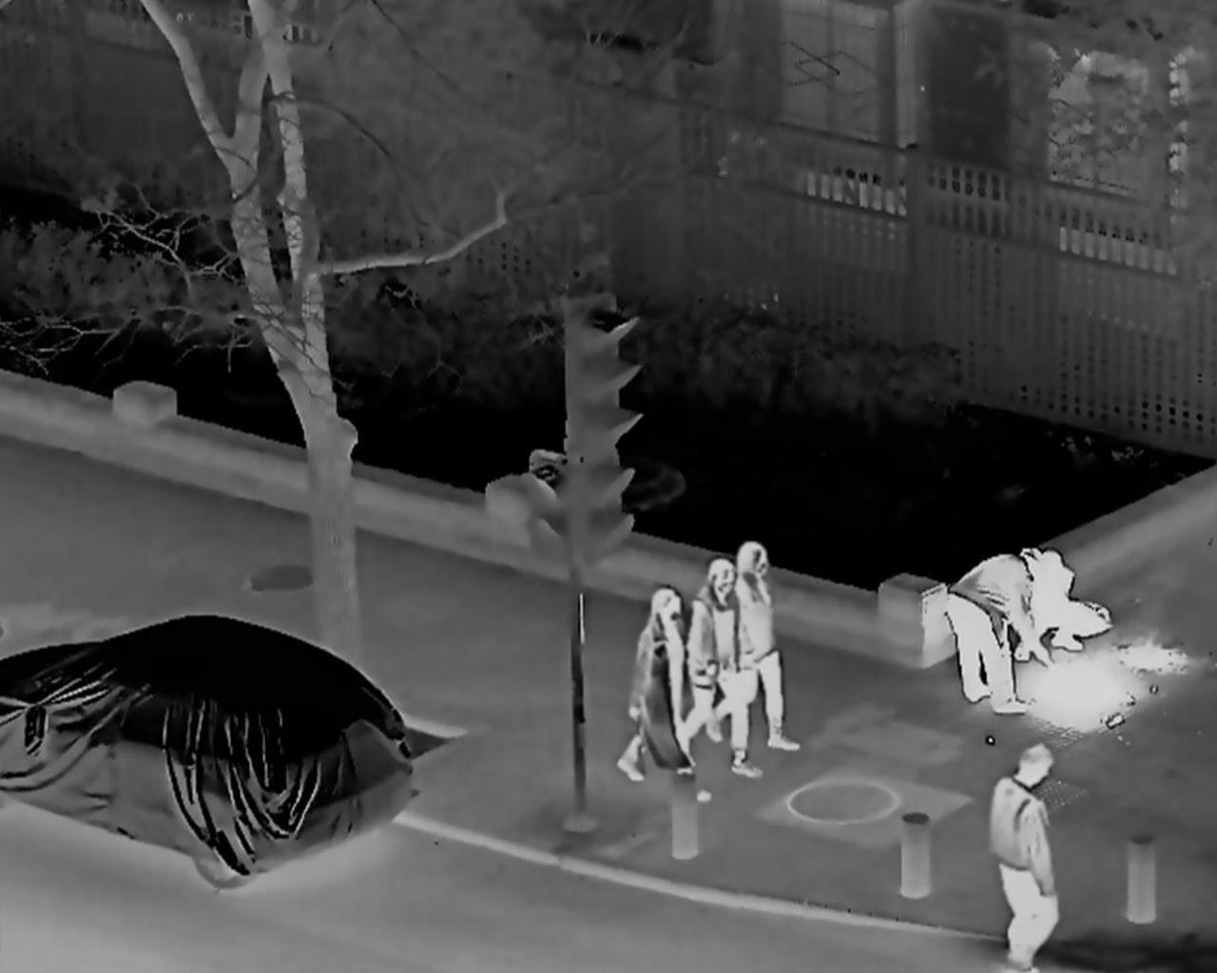person: (720, 544, 805, 760), (678, 557, 756, 776), (985, 750, 1062, 971), (940, 544, 1041, 710), (617, 586, 696, 791), (1001, 547, 1111, 661)
